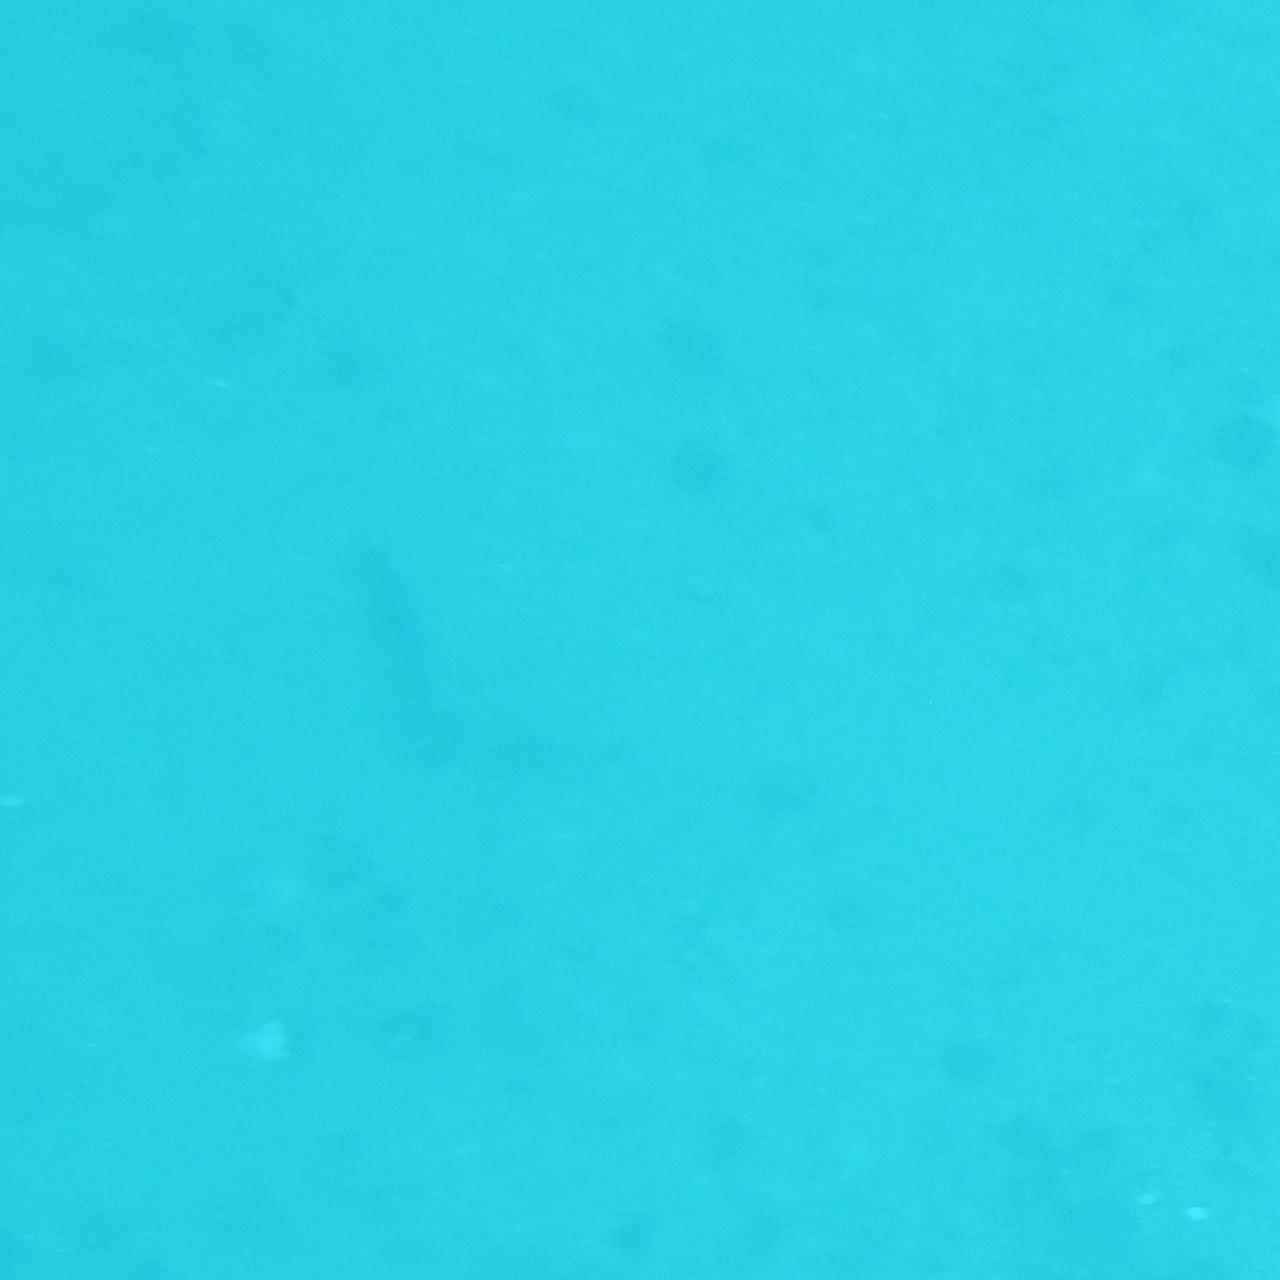Holothuria tubulosa: (337, 532, 455, 748)
